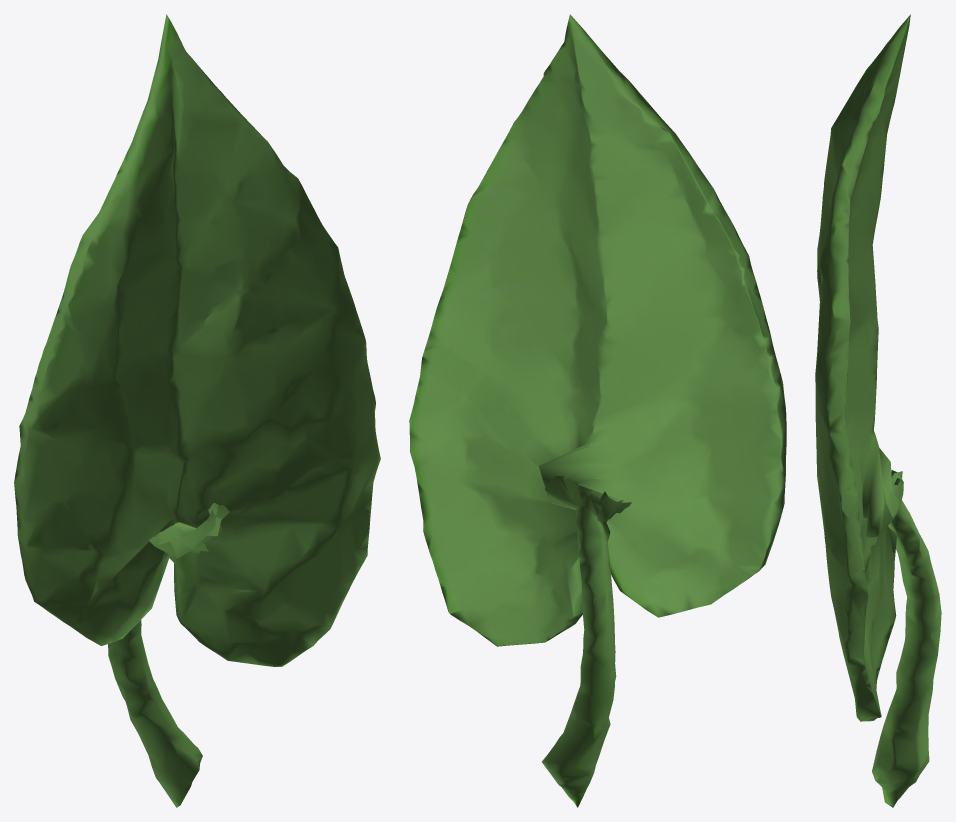
File: sc_leaf_mature.glb
The picture shows the model from 3 angles, left to right: view 1: azimuth 30°, elevation 25°; view 2: azimuth 150°, elevation 25°; view 3: azimuth 270°, elevation 25°; orthographic projection.
Visible parts, largest first — view 1: tripo_node_7e5b2c7c-99b4-4152-9756-b67bee59fccd; view 2: tripo_node_7e5b2c7c-99b4-4152-9756-b67bee59fccd; view 3: tripo_node_7e5b2c7c-99b4-4152-9756-b67bee59fccd.
Part boxes in pixels (box(x1,y1,x2,y2)): tripo_node_7e5b2c7c-99b4-4152-9756-b67bee59fccd: box(14, 14, 380, 807); tripo_node_7e5b2c7c-99b4-4152-9756-b67bee59fccd: box(409, 14, 786, 807); tripo_node_7e5b2c7c-99b4-4152-9756-b67bee59fccd: box(815, 14, 941, 807).
Size of the model in its own units: 0.6078 by 1.25 by 0.181.
Materials: 1 (1 with a texture image).
